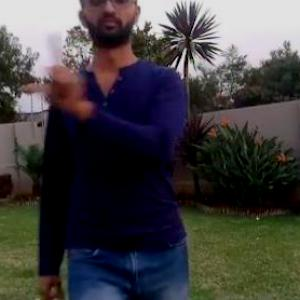land_hand: (22, 28, 90, 117)
